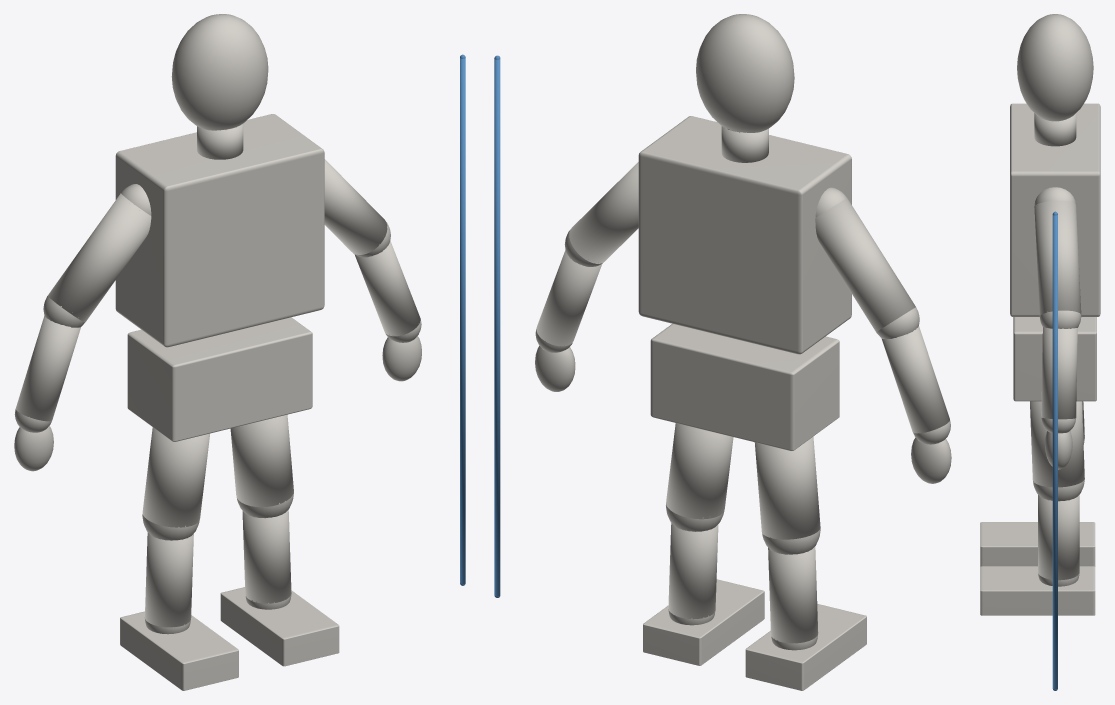
File: figure.fbx
The picture shows the model from 3 angles, left to right: view 1: azimuth 30°, elevation 25°; view 2: azimuth 150°, elevation 25°; view 3: azimuth 270°, elevation 25°; orthographic projection. The views are drawn at different scales.
Visible parts, largest first — view 1: ribcage_block, pelvis_block, head, left_upper_arm_shaft, right_foot, left_foot, left_thigh_shaft, right_thigh_shaft, left_shin_shaft, right_shin_shaft, left_forearm_shaft, right_upper_arm_shaft (+6 smaller); view 2: ribcage_block, pelvis_block, head, left_upper_arm_shaft, left_foot, right_foot, left_thigh_shaft, right_thigh_shaft, left_shin_shaft, right_shin_shaft, left_forearm_shaft, right_upper_arm_shaft (+8 smaller); view 3: ribcage_block, head, right_foot, right_upper_arm_shaft, pelvis_block, left_foot, right_shin_shaft, height_reference_3m_shaft, right_forearm_shaft, right_thigh_shaft, neck_shaft, right_hand (+5 smaller).
Part boxes in pixels (x1,y1,x2,y2): ribcage_block: [115, 114, 324, 347]; pelvis_block: [127, 317, 312, 441]; head: [171, 14, 268, 130]; left_upper_arm_shaft: [47, 193, 151, 322]; right_foot: [220, 587, 339, 666]; left_foot: [120, 611, 238, 690]; left_thigh_shaft: [142, 427, 210, 527]; right_thigh_shaft: [230, 414, 293, 507]; left_shin_shaft: [145, 532, 193, 627]; right_shin_shaft: [242, 510, 291, 603]; left_forearm_shaft: [15, 315, 80, 421]; right_upper_arm_shaft: [324, 159, 387, 254]; ribcage_block: [638, 116, 851, 354]; pelvis_block: [650, 323, 839, 450]; head: [696, 14, 794, 132]; left_upper_arm_shaft: [815, 198, 915, 331]; left_foot: [745, 604, 866, 690]; right_foot: [643, 579, 764, 665]; left_thigh_shaft: [754, 436, 820, 539]; right_thigh_shaft: [666, 423, 733, 519]; left_shin_shaft: [768, 546, 818, 643]; right_shin_shaft: [668, 523, 718, 619]; left_forearm_shaft: [881, 326, 949, 433]; right_upper_arm_shaft: [569, 162, 638, 263]; ribcage_block: [1010, 103, 1100, 316]; head: [1017, 14, 1093, 121]; right_foot: [980, 566, 1095, 615]; right_upper_arm_shaft: [1034, 200, 1081, 316]; pelvis_block: [1013, 317, 1096, 401]; left_foot: [980, 522, 1095, 566]; right_shin_shaft: [1038, 495, 1079, 580]; height_reference_3m_shaft: [1052, 215, 1057, 689]; right_forearm_shaft: [1041, 327, 1077, 419]; right_thigh_shaft: [1030, 401, 1084, 487]; neck_shaft: [1034, 113, 1076, 146]; right_hand: [1045, 431, 1072, 469].
Size of the model in its own units: 268 by 358 by 69.
